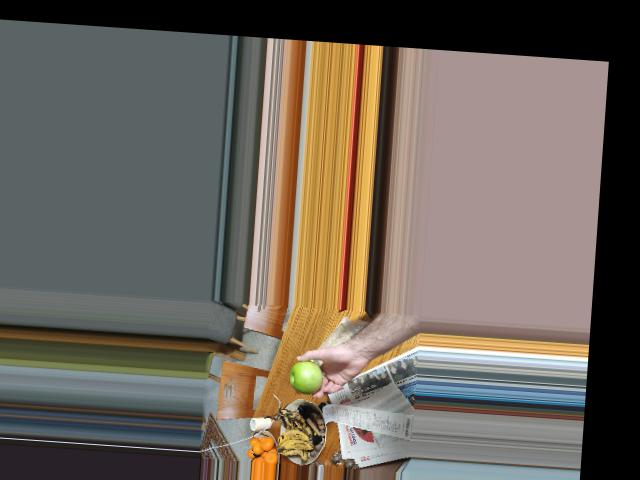apple: (289, 357, 324, 390)
